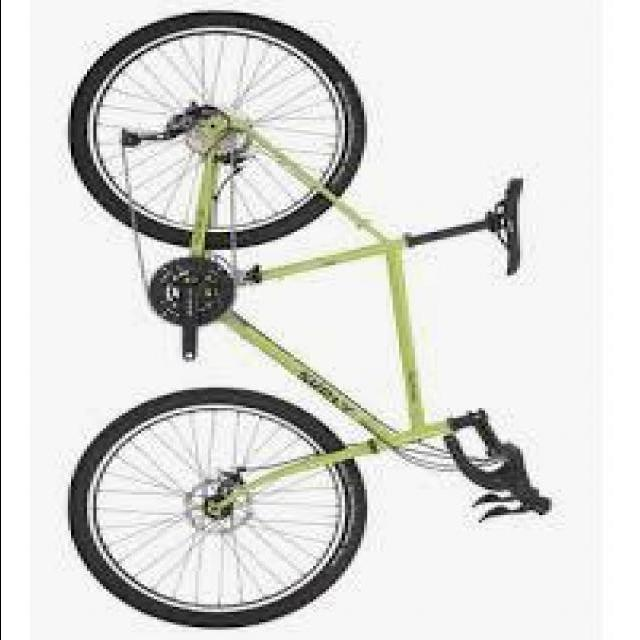bicycle: (36, 11, 555, 635)
